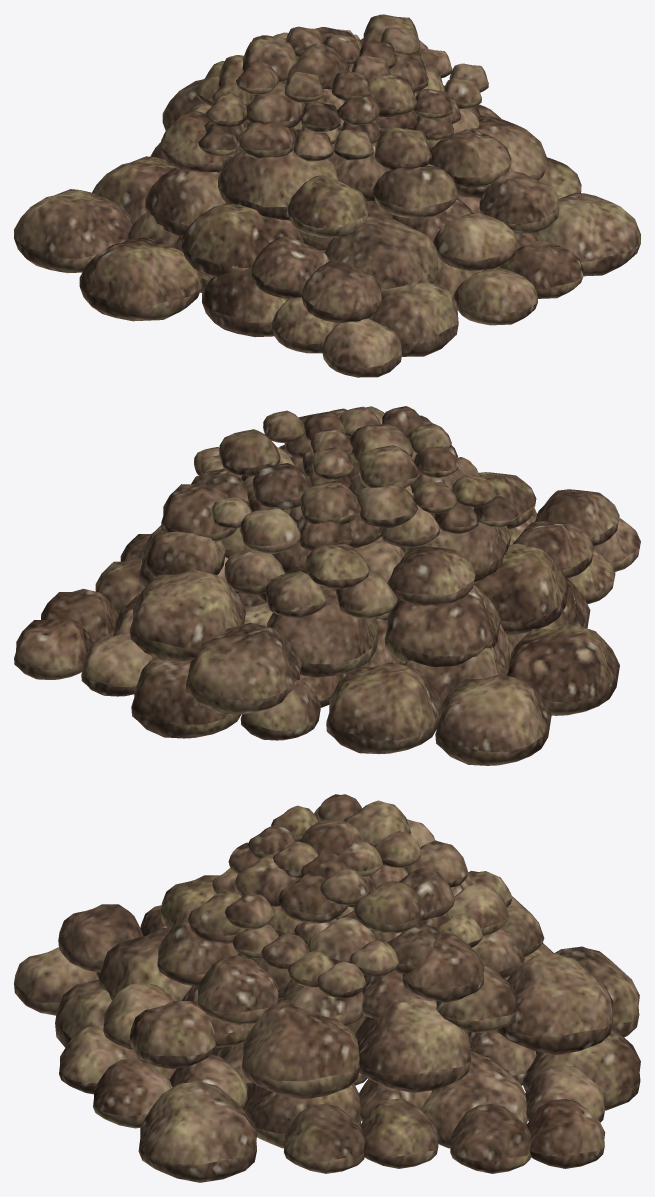
The model's file is Rocky_Dirt_Pile.fbx.
3 views of the same model, one above another, from view 1: azimuth 30°, elevation 25°; view 2: azimuth 150°, elevation 25°; view 3: azimuth 270°, elevation 25° (orthographic). The views are drawn at different scales.
Visible parts, largest first — view 1: Rock_geo63, Rock_geo65, Rock_geo71, Rock_geo38, Rock_geo2, Rock_geo84, Rock_geo9, Rock_geo81, Rock_geo70, Rock_geo67, Rock_geo37, Rock_geo11 (+49 smaller); view 2: Rock_geo65, Rock_geo17, Rock_geo61, Rock_geo59, Rock_geo63, Rock_geo19, Rock_geo38, Rock_geo60, Rock_geo1, Rock_geo62, Rock_geo74, Rock_geo78 (+46 smaller); view 3: Rock_geo2, Rock_geo88, Rock_geo59, Rock_geo87, Rock_geo90, Rock_geo77, Rock_geo76, Rock_geo20, Rock_geo57, Rock_geo74, Rock_geo83, Rock_geo1 (+52 smaller).
Part boxes in pixels (<box>): Rock_geo63: <box>79,237,201,321</box>; Rock_geo65: <box>14,189,133,273</box>; Rock_geo71: <box>325,212,438,298</box>; Rock_geo38: <box>181,203,303,277</box>; Rock_geo2: <box>533,192,640,276</box>; Rock_geo84: <box>218,149,338,220</box>; Rock_geo9: <box>368,282,458,356</box>; Rock_geo81: <box>288,175,367,237</box>; Rock_geo70: <box>301,260,381,322</box>; Rock_geo67: <box>202,267,287,337</box>; Rock_geo37: <box>433,212,517,270</box>; Rock_geo11: <box>322,318,401,377</box>; Rock_geo65: <box>435,674,551,765</box>; Rock_geo17: <box>326,662,442,754</box>; Rock_geo61: <box>186,622,301,714</box>; Rock_geo59: <box>130,570,245,661</box>; Rock_geo63: <box>507,624,619,715</box>; Rock_geo19: <box>384,585,500,666</box>; Rock_geo38: <box>473,543,568,634</box>; Rock_geo60: <box>267,587,379,677</box>; Rock_geo1: <box>131,657,241,738</box>; Rock_geo62: <box>387,546,475,606</box>; Rock_geo74: <box>14,616,93,679</box>; Rock_geo78: <box>81,633,154,696</box>; Rock_geo2: <box>138,1081,257,1182</box>; Rock_geo88: <box>241,999,359,1099</box>; Rock_geo59: <box>497,953,613,1054</box>; Rock_geo87: <box>355,998,471,1092</box>; Rock_geo90: <box>130,1001,216,1069</box>; Rock_geo77: <box>420,1051,527,1148</box>; Rock_geo76: <box>450,1103,531,1173</box>; Rock_geo20: <box>284,1103,364,1173</box>; Rock_geo57: <box>360,1098,438,1168</box>; Rock_geo74: <box>526,1098,605,1168</box>; Rock_geo83: <box>197,955,279,1025</box>; Rock_geo1: <box>523,1029,640,1110</box>.
Size of the model in its own units: 0.7686 by 0.3426 by 0.8025.
